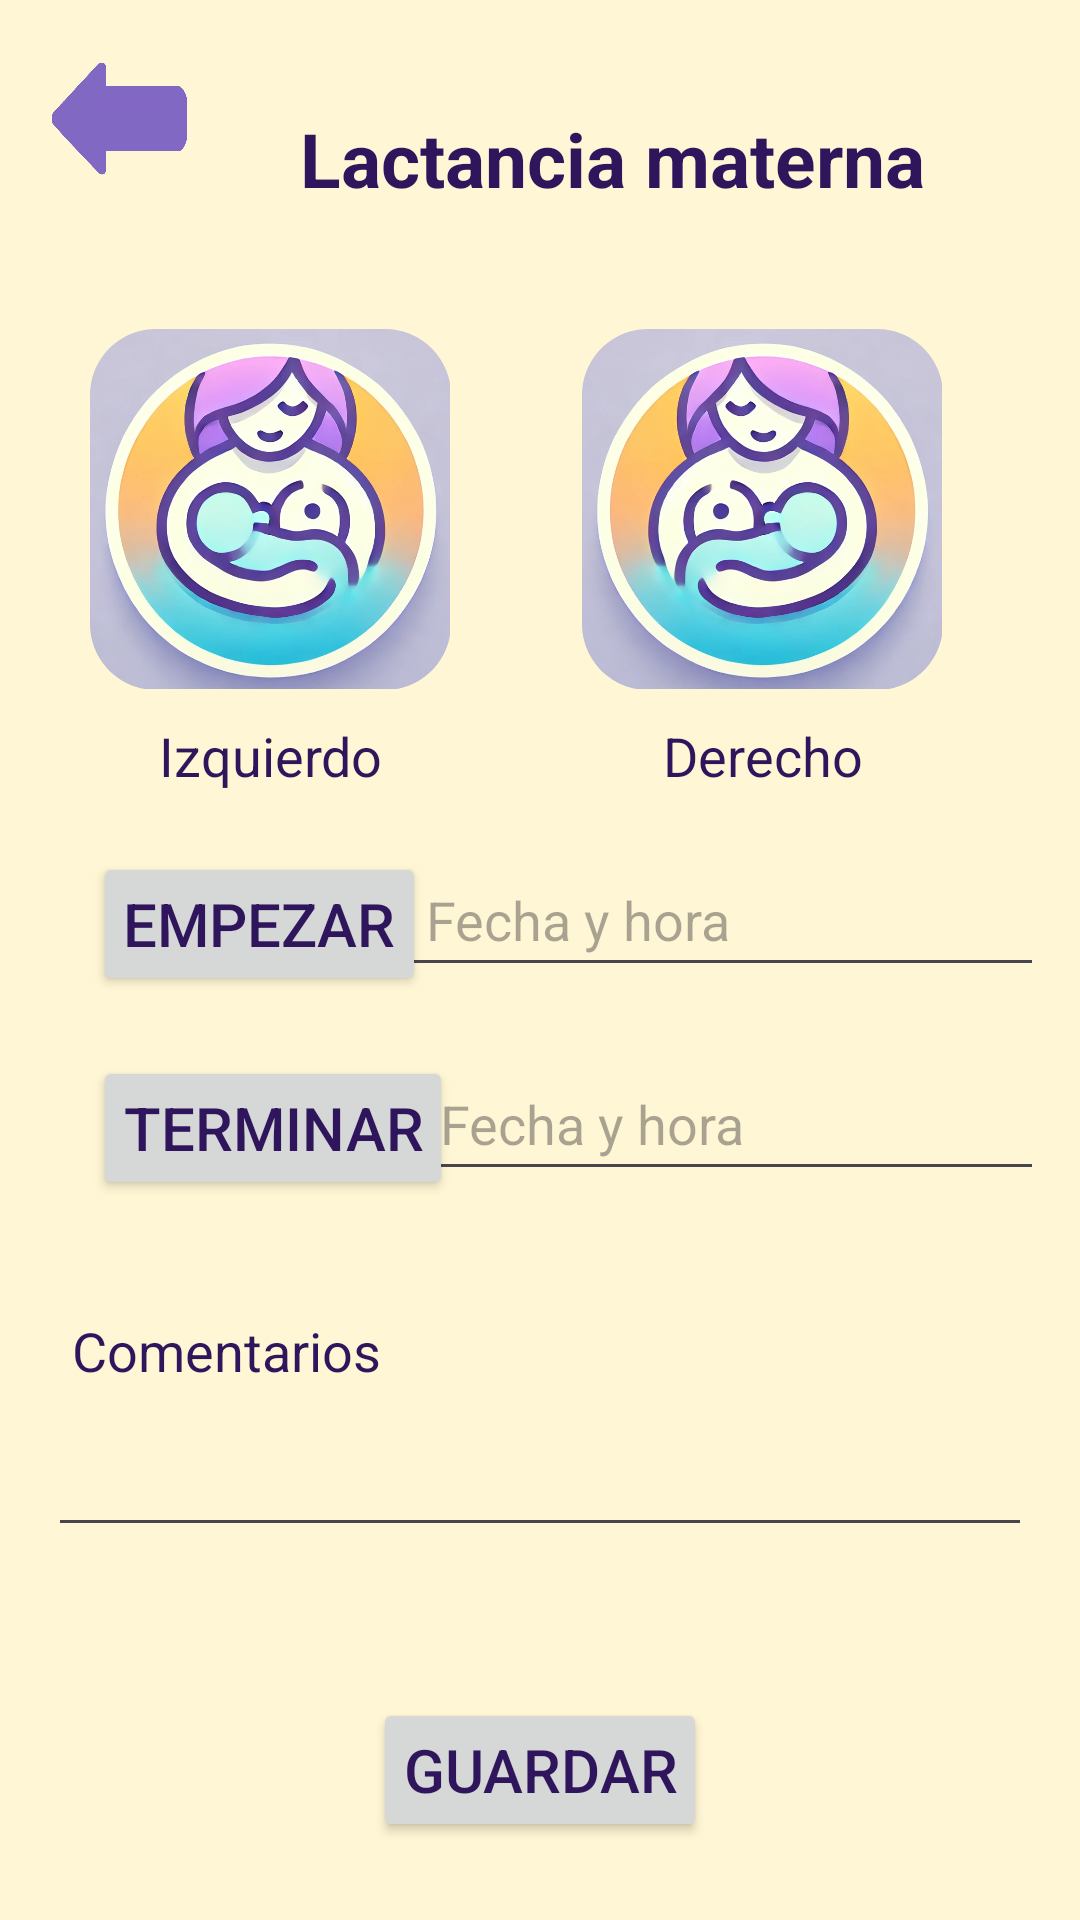

Icons on this 1080×1920 Android screen, each with its box as (x1, y1, x2, y2):
atras: (52, 63, 187, 175)
